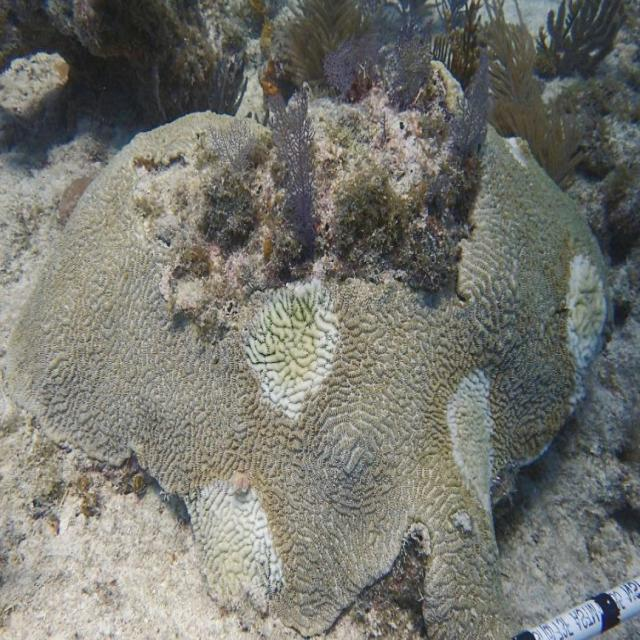Coral: (0, 58, 615, 640), (0, 50, 70, 121)
